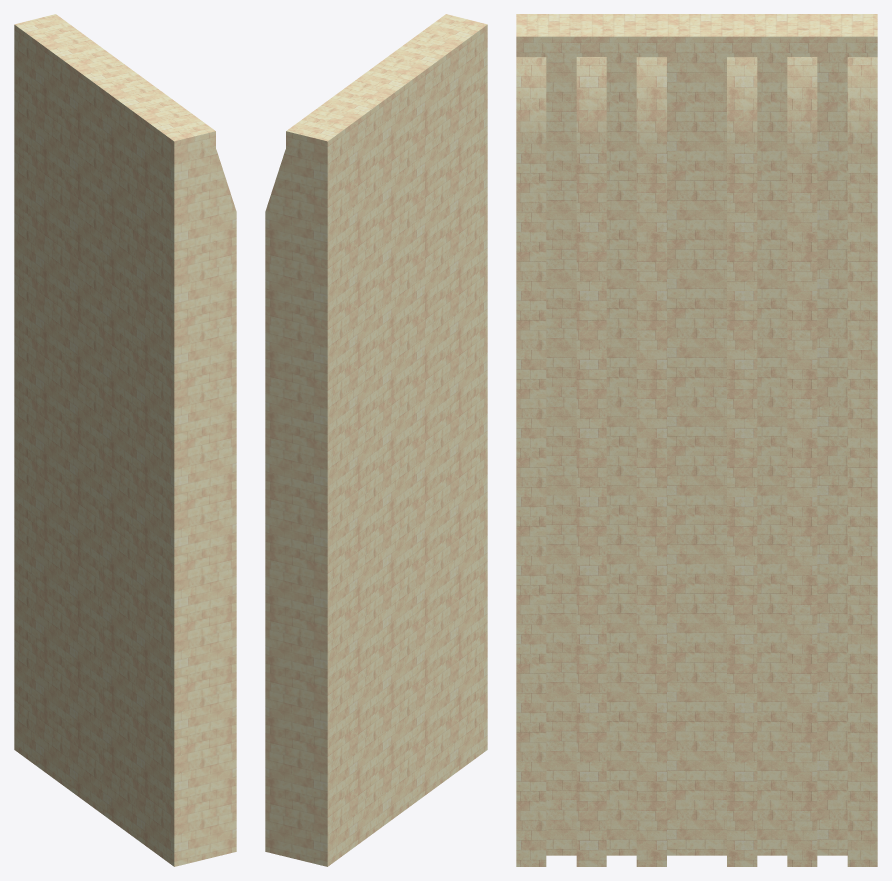
Rendered from SM_ground_edge.glb.
3 renders of one model, left to right at view 1: azimuth 30°, elevation 25°; view 2: azimuth 150°, elevation 25°; view 3: azimuth 270°, elevation 25°, orthographic. The views are drawn at different scales.
Visible parts, largest first — view 1: SM_ground_edge; view 2: SM_ground_edge; view 3: SM_ground_edge.
Part boxes in pixels (bbox=[...]): SM_ground_edge: bbox=[14, 14, 236, 866]; SM_ground_edge: bbox=[265, 14, 487, 866]; SM_ground_edge: bbox=[516, 14, 877, 866].
Bounding box in the file's own units: 4.5 × 50 × 20.
Materials: 1 (1 with a texture image).
